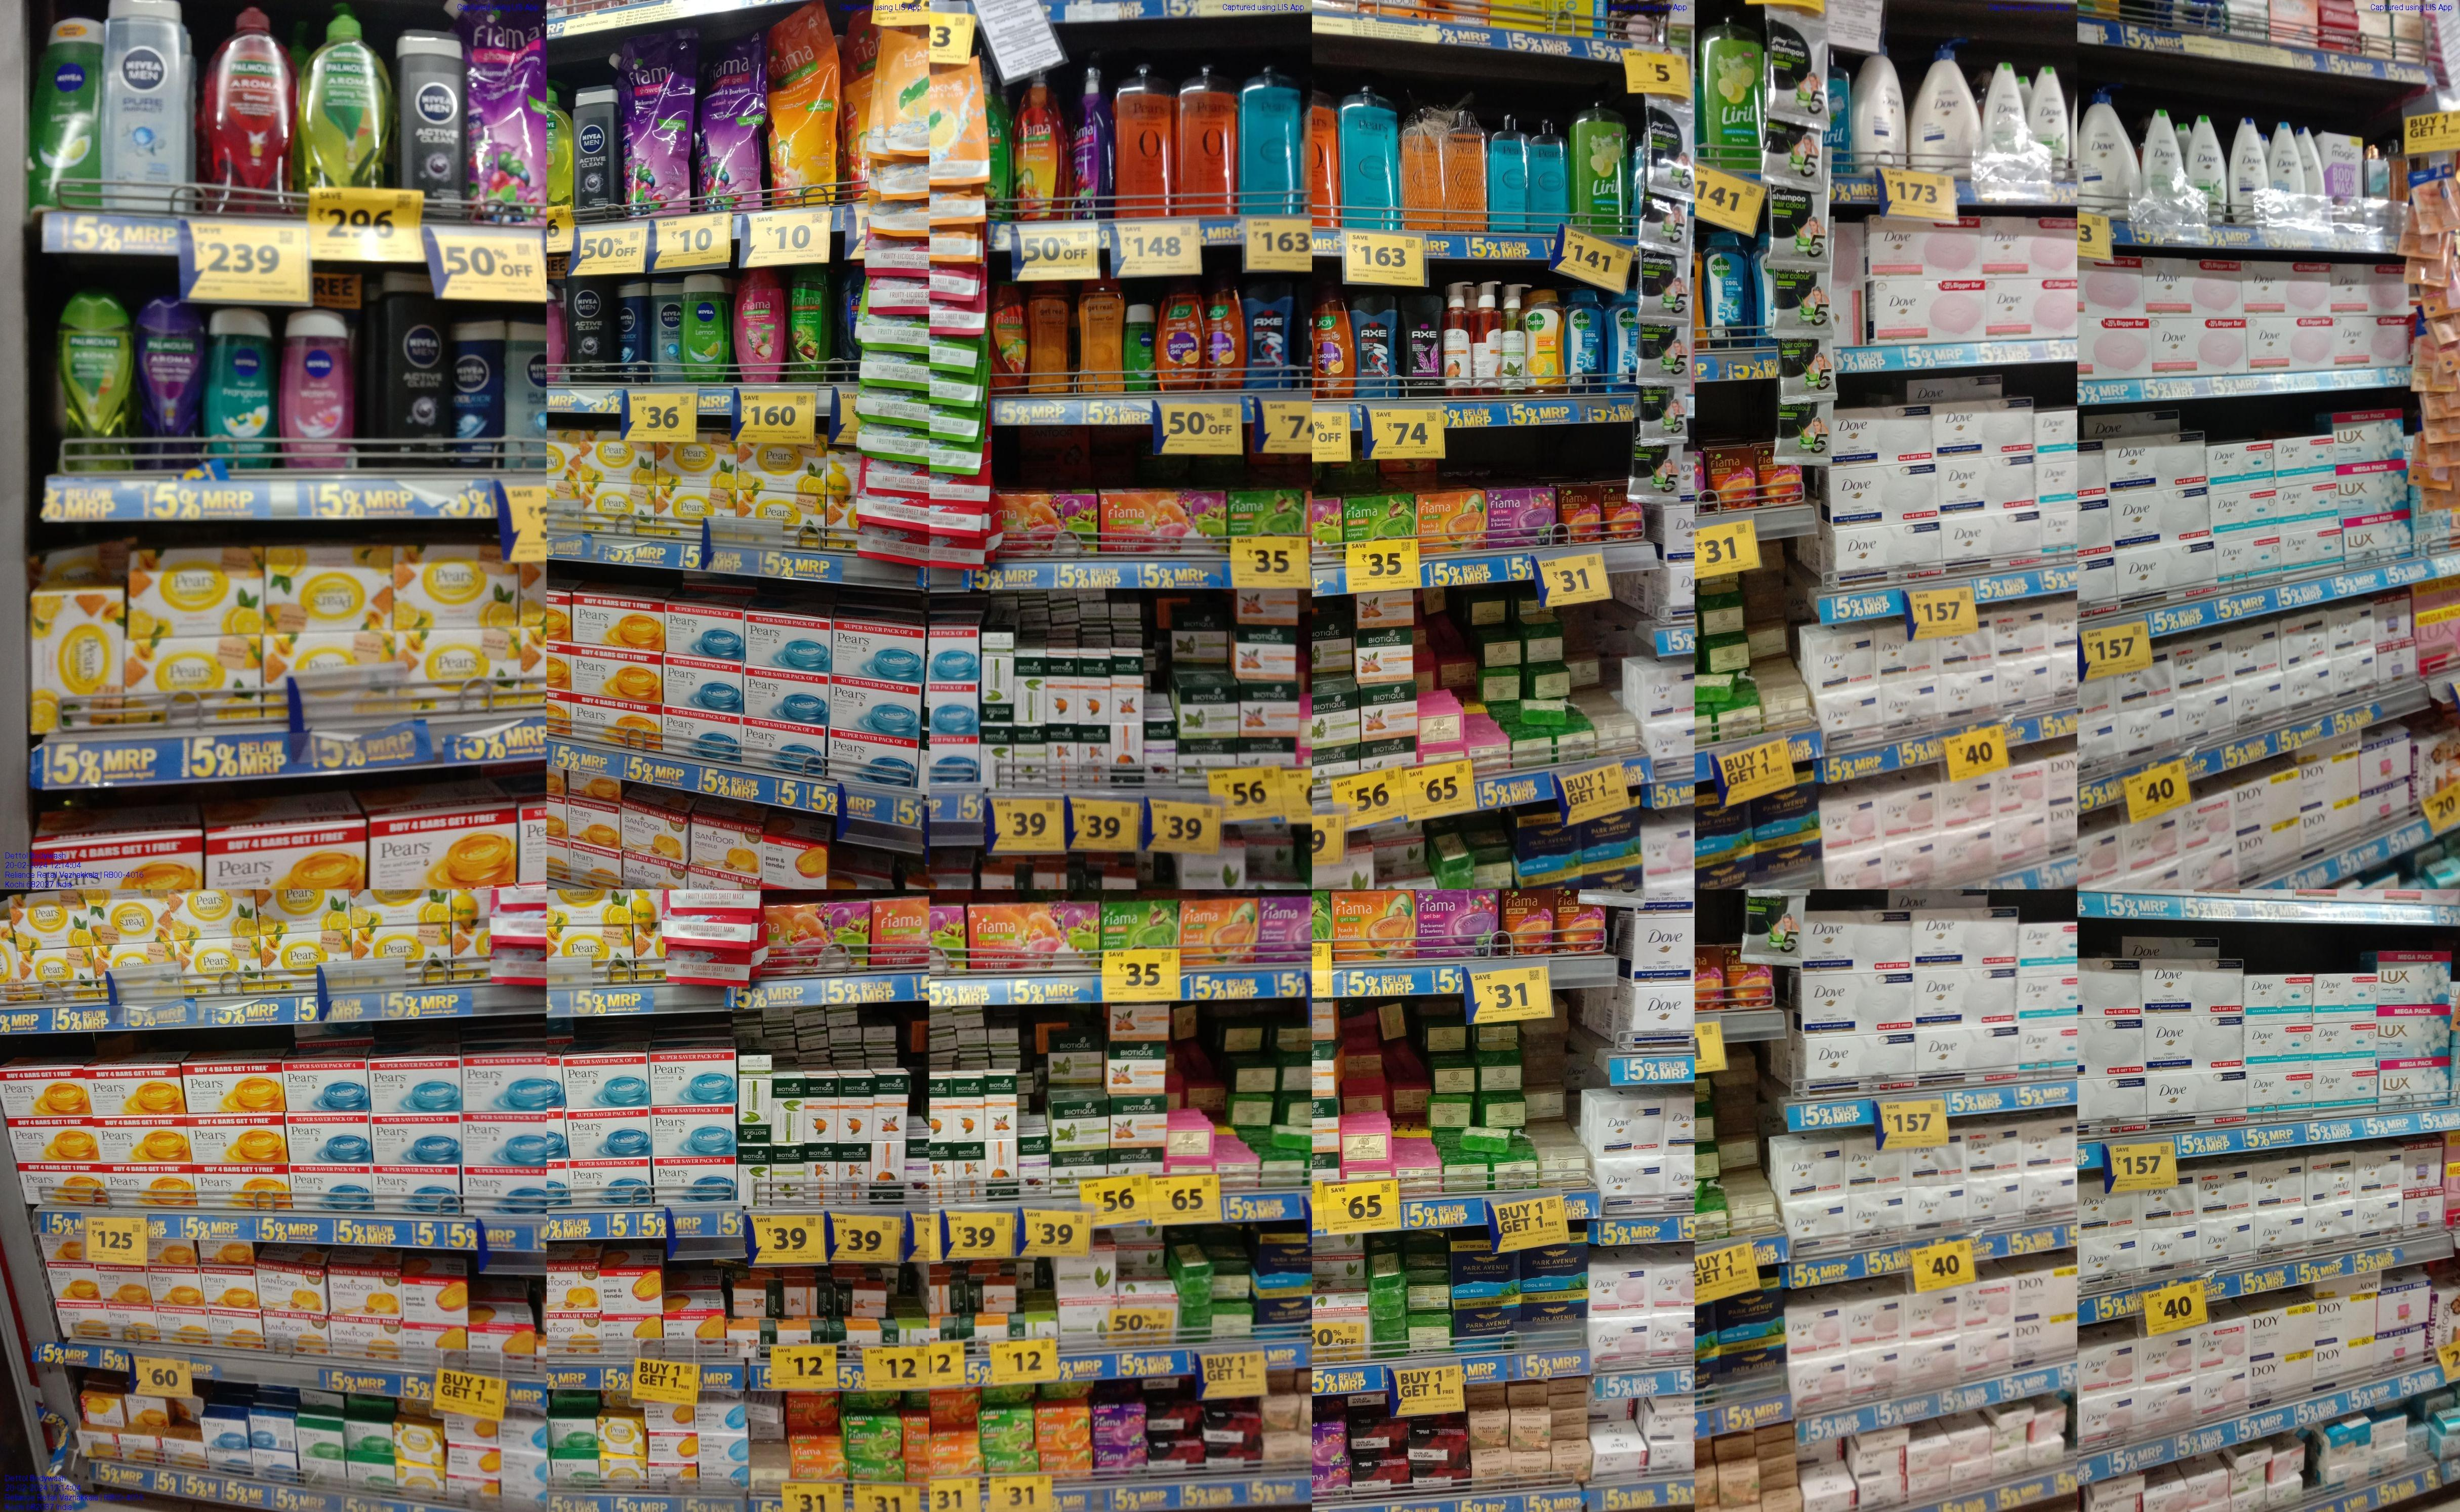Dettol_Bodywash_Cool: (1603, 290, 1638, 394), (1567, 288, 1599, 390)
Dettol_Bodywash_Refresh: (1525, 292, 1562, 396)
Dove_Deep_Moisture_Body_Wash_250ML: (2230, 114, 2260, 229)
Dove_Gentle_Exfoliating_Body_Wash_250ML: (2270, 123, 2304, 195)
Dove_Refreshing_Body_Wash_250ML: (2033, 60, 2072, 167), (2189, 116, 2225, 222), (2144, 105, 2184, 192), (1987, 56, 2028, 142)
Fiama_Shower_Gel_Lemongrass_and_Jojoba_250ML: (789, 265, 833, 382)
Fiama_Shower_Gel_Patchouli_and_Macadamia_250ML: (733, 276, 784, 380)
Fiama_Shower_Gel_Peach_and_Avocado_250ML: (989, 281, 1024, 392)
Get_Real_Shower_Gel_Moisturising_Glycerin_300ML: (1075, 283, 1125, 390), (1026, 287, 1072, 392)
Joy_Shower_Gel_Mandarin_and_Lemongrass_250ML: (1156, 283, 1202, 390), (1205, 278, 1248, 390), (1313, 287, 1355, 397)
Nivea_Shower_Gel_Frangipani_and_Oil_250ML: (209, 308, 276, 473)
Nivea_Shower_Gel_Lemon_and_Oil_250ML: (30, 16, 104, 204), (682, 278, 729, 380)
Nivea_Shower_Gel_Waterlily_and_Oil_250ML: (281, 311, 350, 468)
Palmolive_Aroma_Morning_Tonic_Shower_Gel_250ML: (54, 288, 132, 469)
Palmolive_Aroma_Relax_250ML: (141, 297, 200, 466)
Pears_Pure_Glycerin_and_Mint_Extracts_Body_Wash_250ML: (1530, 120, 1571, 225), (1492, 114, 1525, 230)
